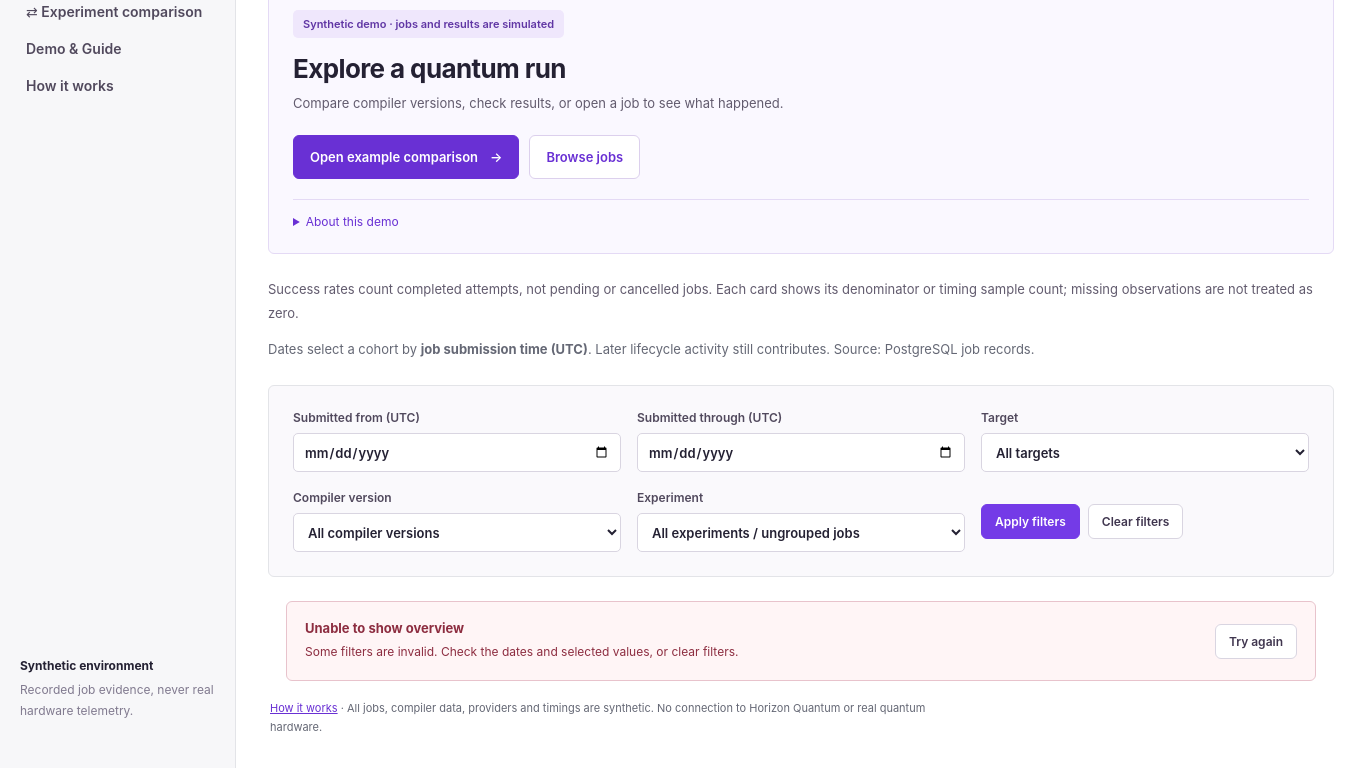
Test: explains invalid filters and allows retry after an API error
(page scrolled)
Expected: the message shows "Some filters are invalid", [305,644,738,660]
What coordinates should you click on to do the following:
click the button "Try again"
I would click on:
 (1256, 641)
Its box is [1215,624,1297,658].
(page scrolled)
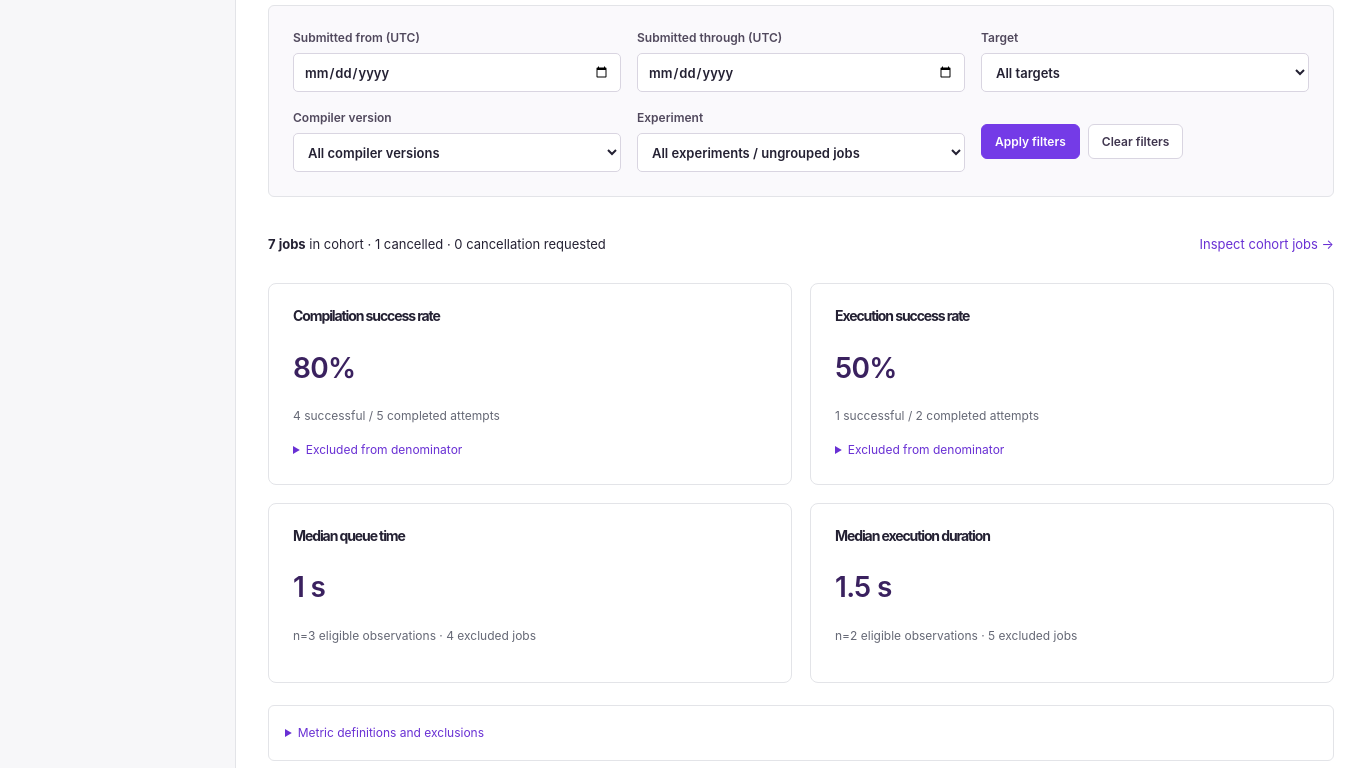
Now the element "Execution success rate" shows "50%", box [835,350,897,384]
